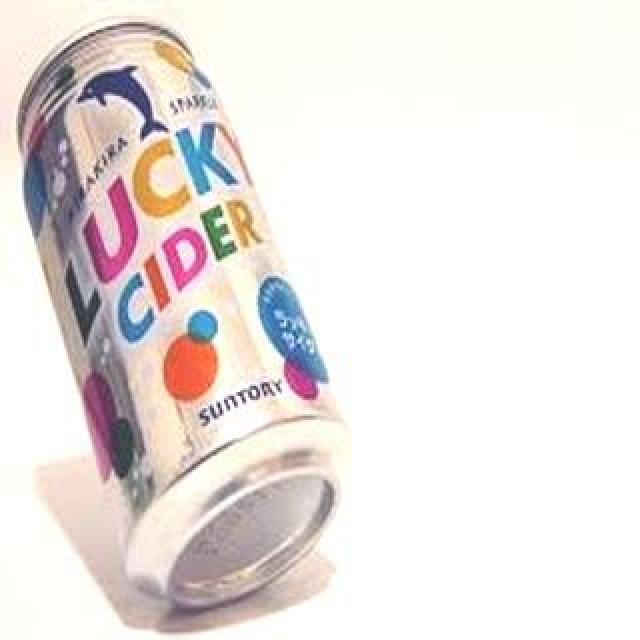Can: (19, 10, 357, 616)
